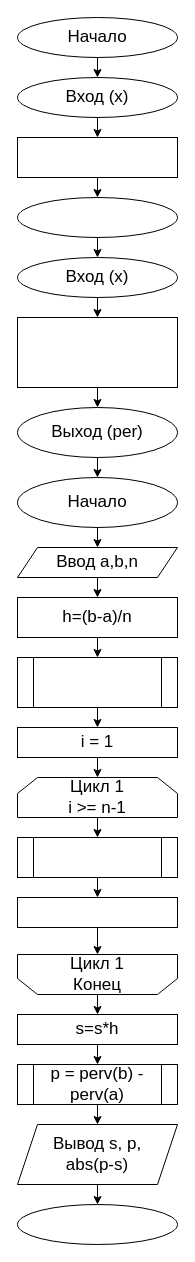
The diagram is 195 pixels wide and 1262 high, and some of its shapes have lost their labels. Here are the shapes that lost their labels. From the top down, the centre of each, then its label:
At (97,157): "f = x^3 + x^2+5*x+3".
At (97,217): "Выход (f)".
At (97,352): "per = (x^4)/4 + (x^3)/3 + 2.5*x^2 + 3*x".
At (97,682): "s =(fun(a)+fun(b))/2".
At (97,857): "s=s+fun(a+i*h)".
At (97,912): "i = i + 1".
At (97,1224): "Конец".
